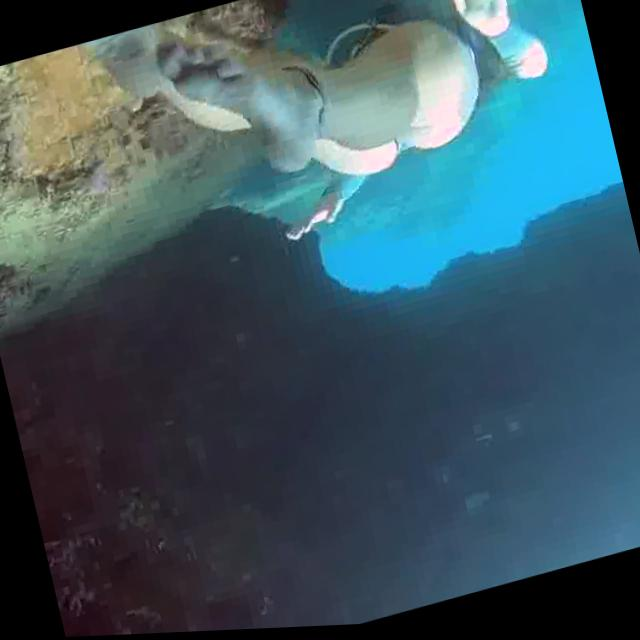human: (54, 0, 573, 293)
